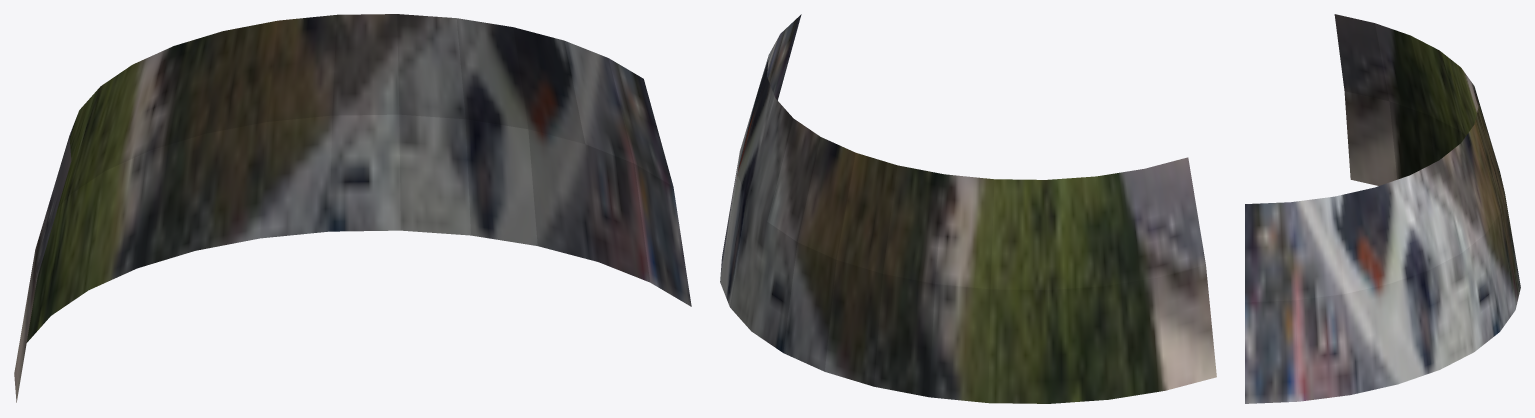
File: cylindre3.fbx
3 views of the same model, side by side, from view 1: azimuth 30°, elevation 25°; view 2: azimuth 150°, elevation 25°; view 3: azimuth 270°, elevation 25° (orthographic). The views are drawn at different scales.
Visible parts, largest first — view 1: Sphere.014; view 2: Sphere.014; view 3: Sphere.014.
Part boxes in pixels (x1,y1,x2,y2): Sphere.014: [14, 14, 691, 402]; Sphere.014: [720, 14, 1216, 403]; Sphere.014: [1245, 14, 1520, 403].
Size of the model in its own units: 5984 by 2266 by 3110.
